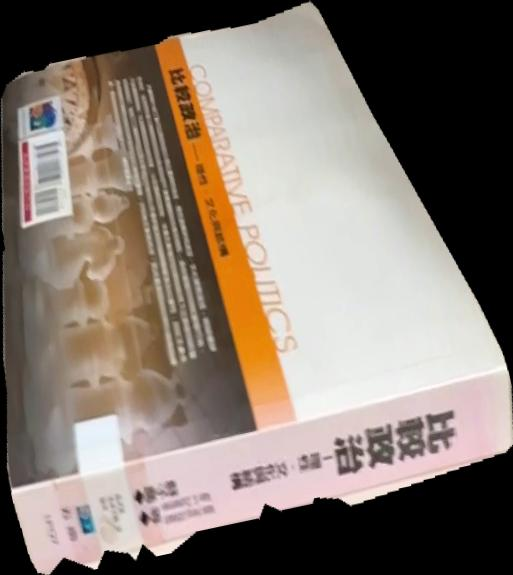flat: (1, 1, 513, 575)
